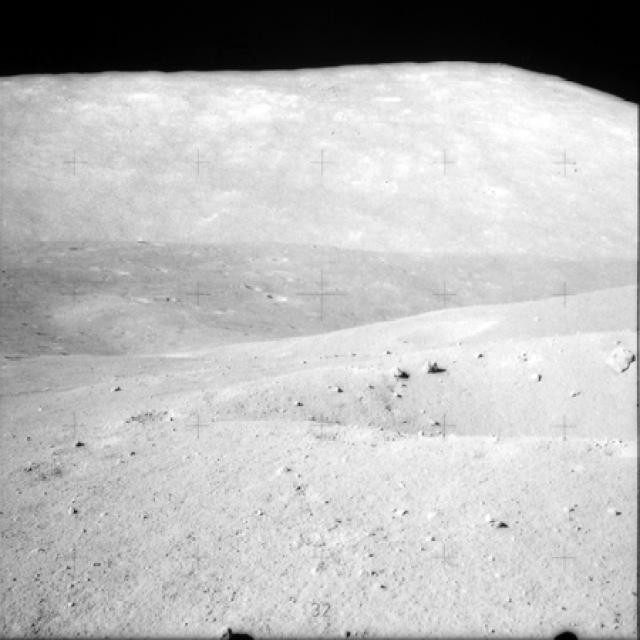crater: (241, 343, 639, 458)
rock: (598, 346, 639, 372), (212, 615, 252, 639), (382, 363, 412, 380), (421, 356, 446, 374), (108, 380, 123, 398)
